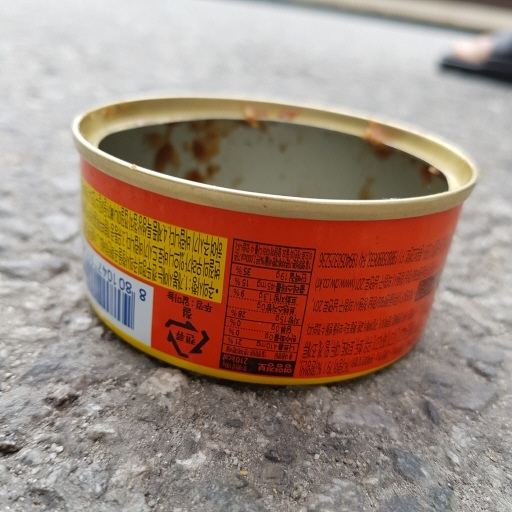Metal_1: (70, 92, 477, 392)
